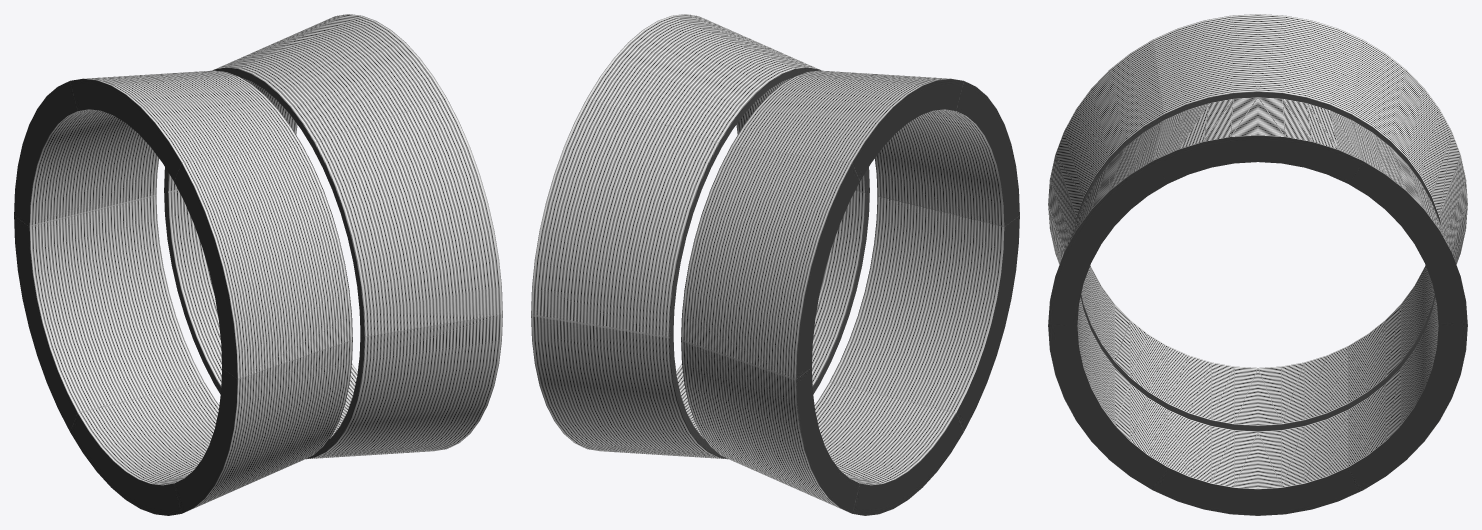
Rendered from Stator_Inner.glb.
3 views of the same model, side by side, from view 1: azimuth 30°, elevation 25°; view 2: azimuth 150°, elevation 25°; view 3: azimuth 270°, elevation 25° (orthographic). The views are drawn at different scales.
Visible parts, largest first — view 1: New_HPM_Stator_Inner_5Aug2024; view 2: New_HPM_Stator_Inner_5Aug2024; view 3: New_HPM_Stator_Inner_5Aug2024.
Boxes of the visible parts, x1=… form: New_HPM_Stator_Inner_5Aug2024: x1=14, y1=14, x2=502, y2=515; New_HPM_Stator_Inner_5Aug2024: x1=531, y1=14, x2=1019, y2=515; New_HPM_Stator_Inner_5Aug2024: x1=1048, y1=14, x2=1467, y2=515.
Bounding box in the file's own units: 0.46 × 0.672 × 0.672.
1 material, 1 textured.
